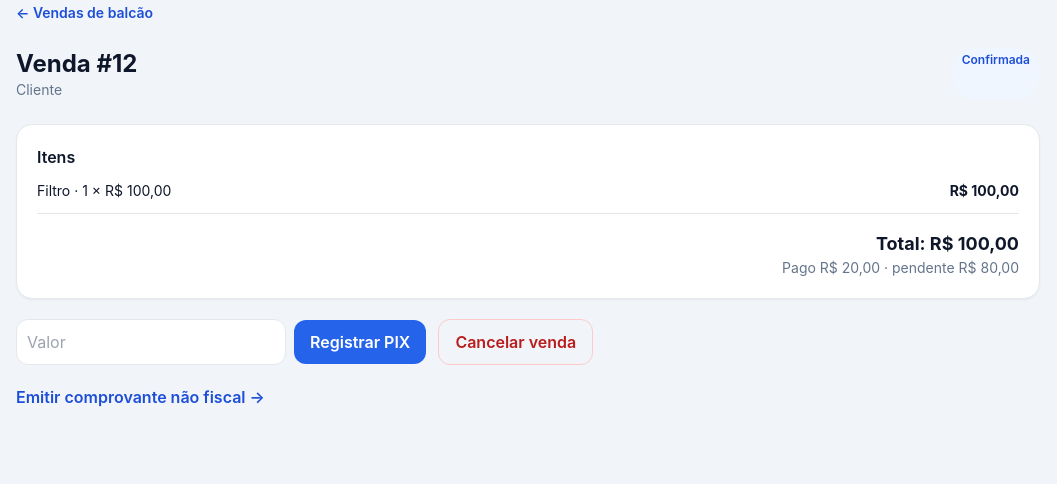
Test case: DirectSaleDetailPage › shows a safe API message when adding a payment fails
This screenshot has width=1057, height=484.
In the field named "valor do pagamento": (151, 342) x1=16 y1=319 x2=286 y2=365, type "80.00"
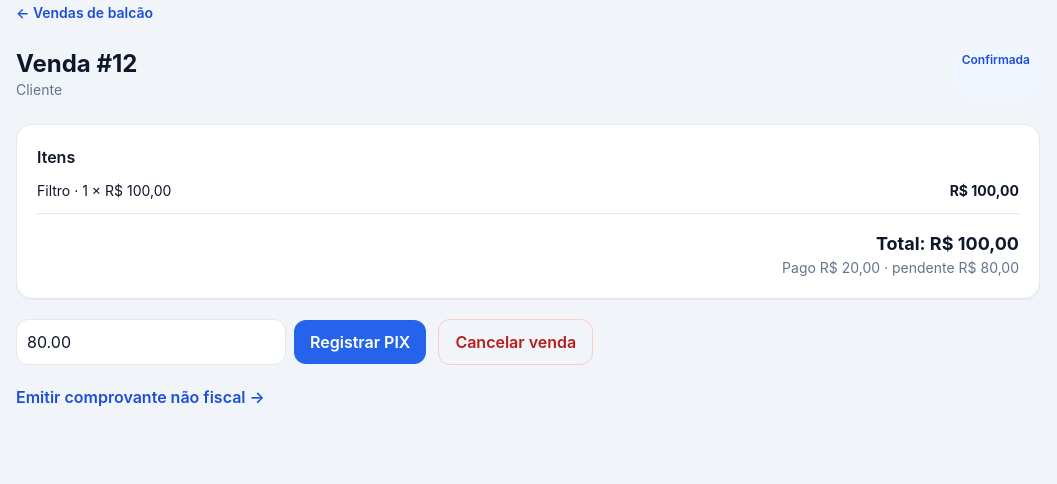
Click the button "Registrar PIX": (360, 342) x1=294 y1=320 x2=426 y2=364
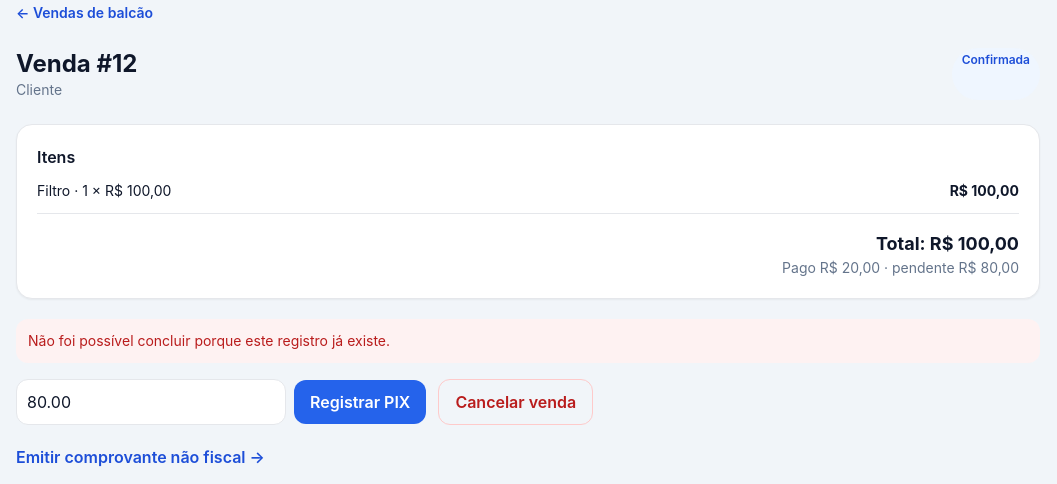
Expected: the message does not show "database secret", x1=16 y1=319 x2=1040 y2=363
Expected: the message reads "Não foi possível concluir porque este registro já existe.", x1=28 y1=332 x2=390 y2=349
